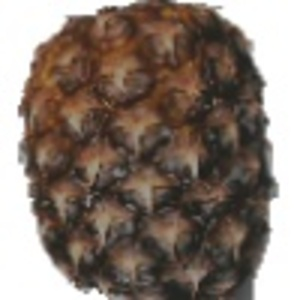abacaxi: (15, 1, 278, 296)
